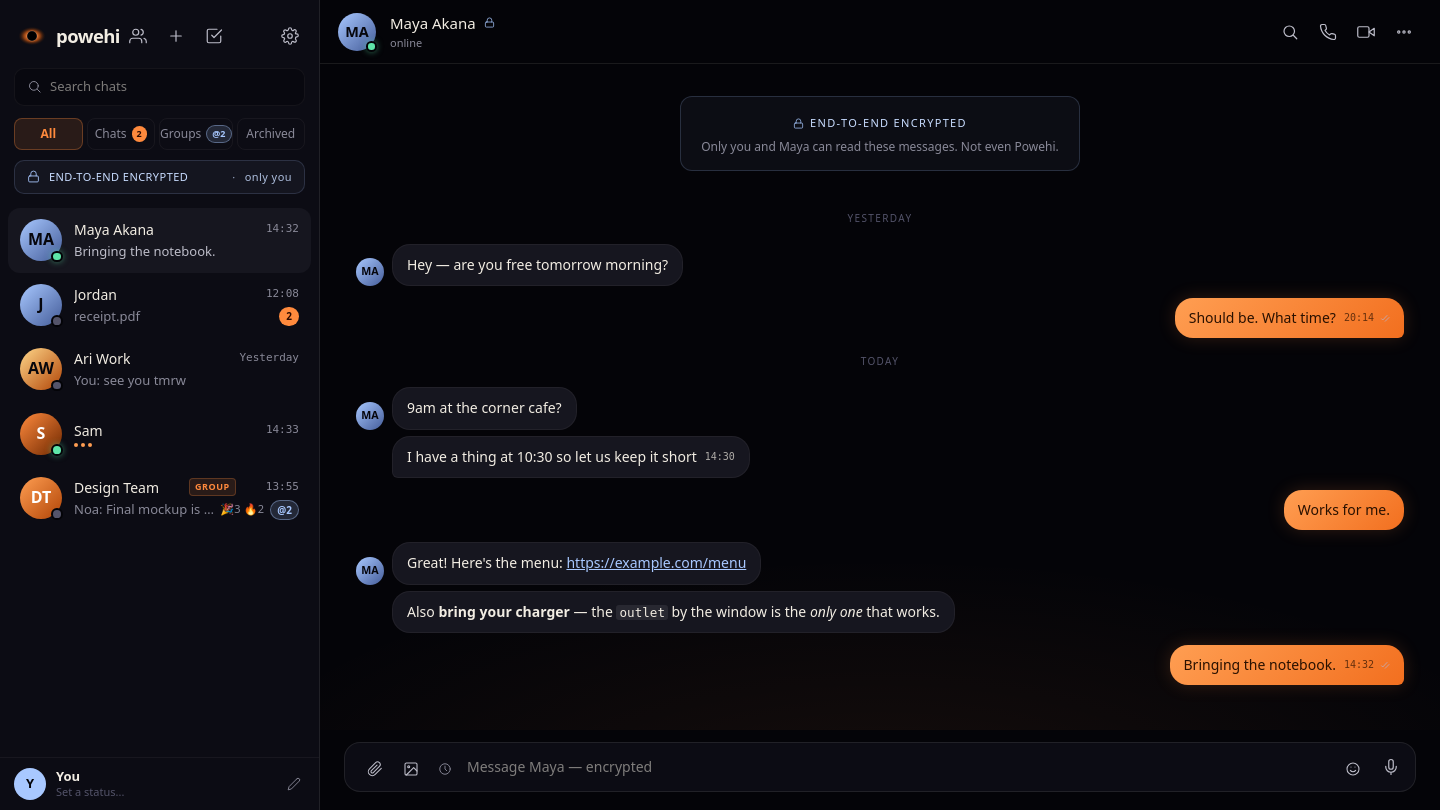
Scenario: ChatLayout — scheduled send › clicking send-later opens the schedule picker
In the text box with placeholder "Message Maya — encrypted": (898, 767) [463,749,1333,785], type "Test"
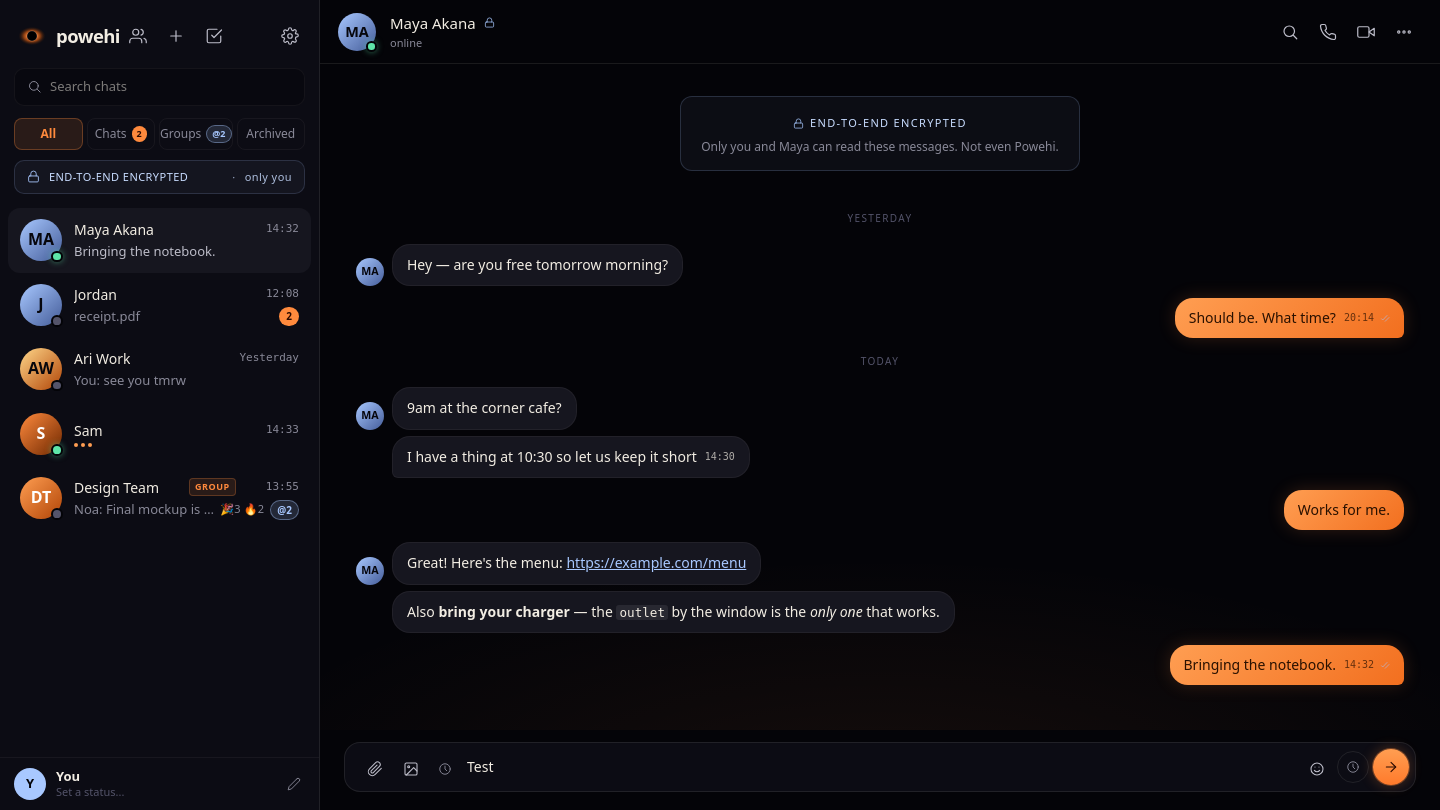
Click the button with test id "send-later-btn": click(1353, 767) [1337,751,1369,783]
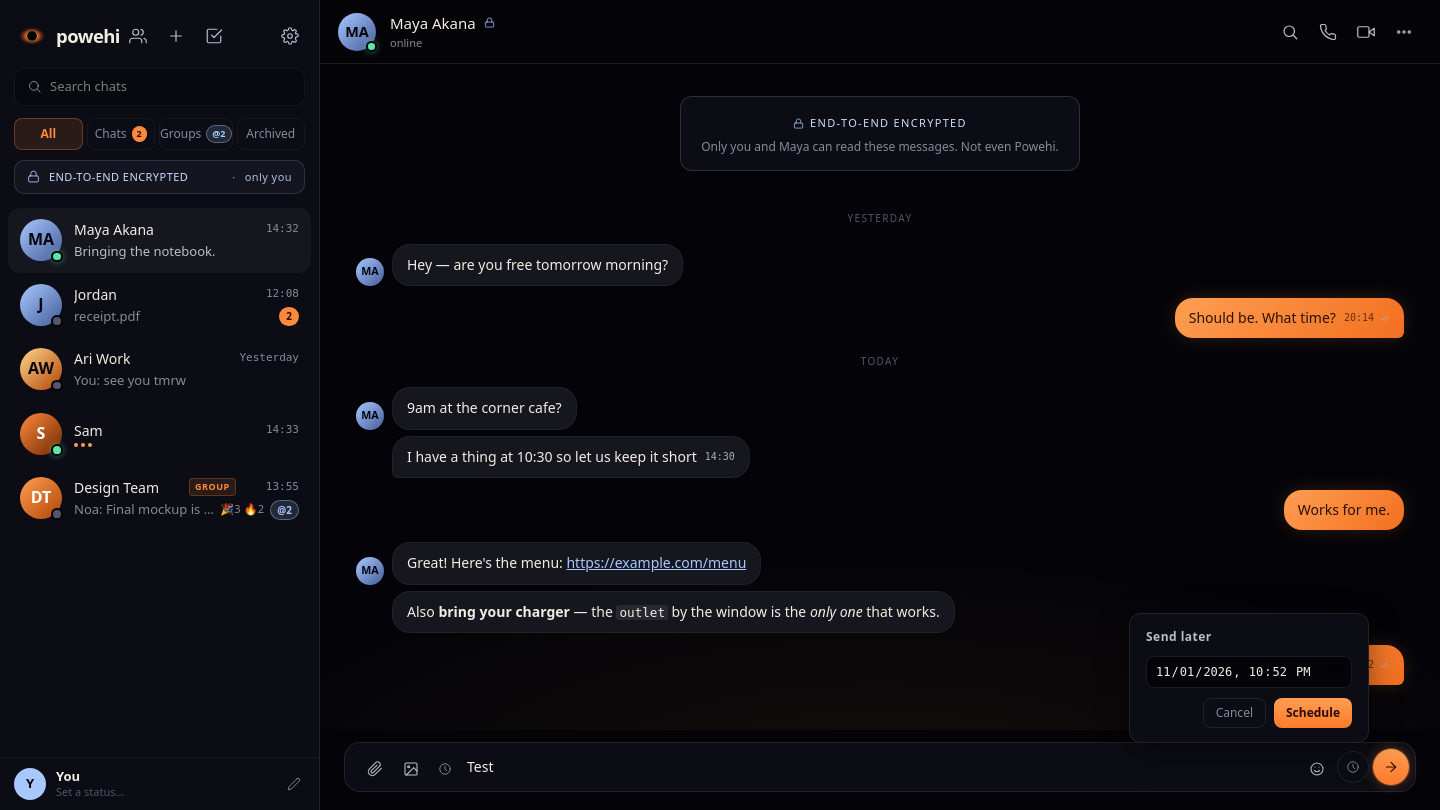
Result: the element with test id "schedule-picker" is shown at [1129,613,1369,743]
